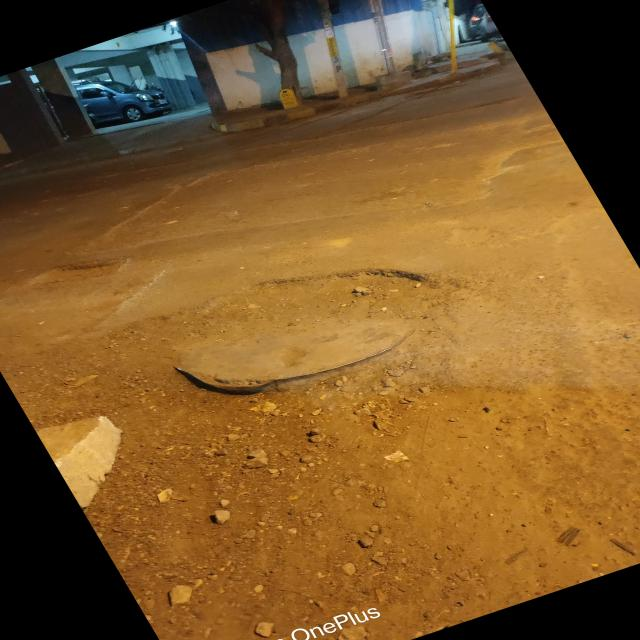potholes: (168, 264, 432, 397)
